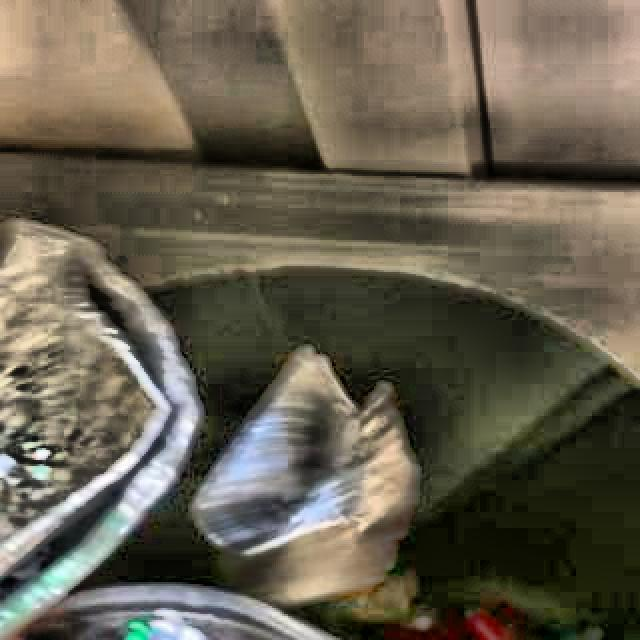metal: (0, 220, 198, 640), (191, 348, 416, 608)
